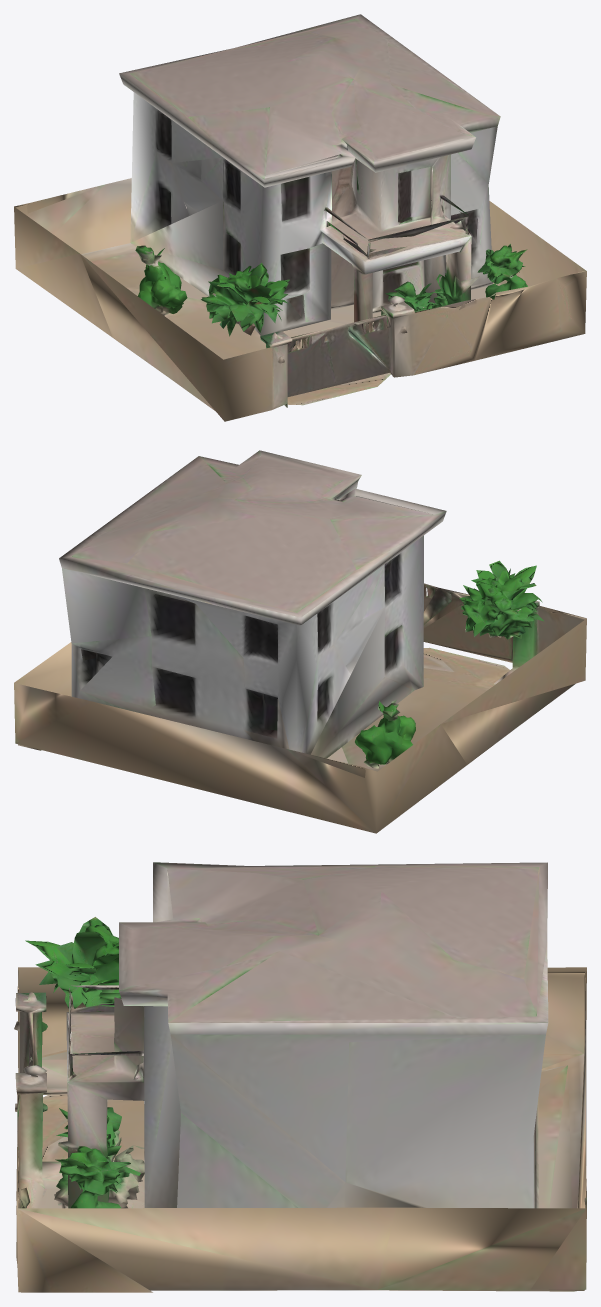
Rendered from mansion.glb.
The picture shows the model from 3 angles, top to bottom: view 1: azimuth 30°, elevation 25°; view 2: azimuth 150°, elevation 25°; view 3: azimuth 270°, elevation 25°; orthographic projection. The views are drawn at different scales.
Size of the model in its own units: 1.9 by 1.09 by 1.91.
1 material, 1 textured.
